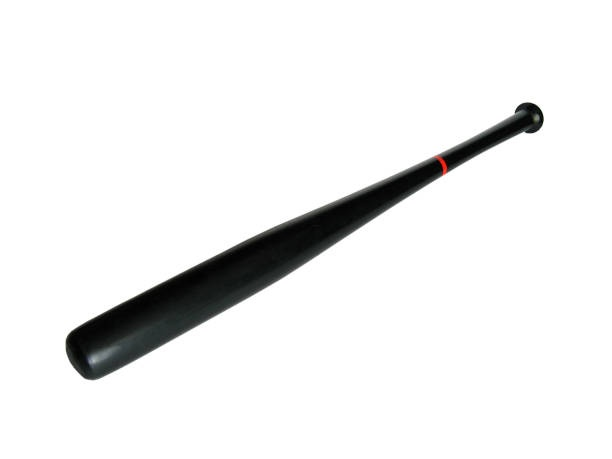bita: (66, 102, 546, 374)
